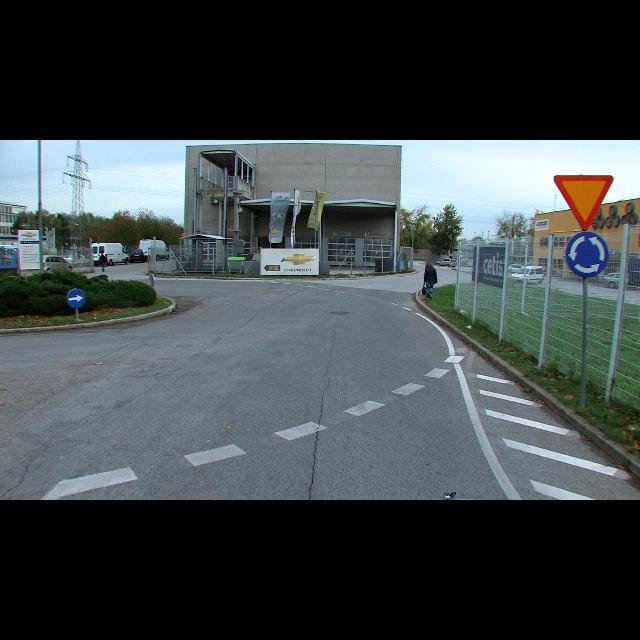Round: (566, 231, 610, 277), (68, 288, 86, 310)
Triangle: (554, 174, 616, 230)
